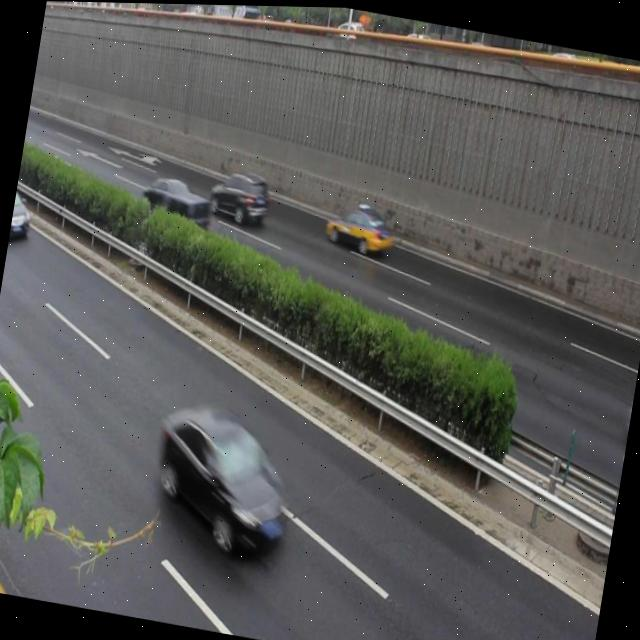car: (138, 386, 310, 568), (319, 192, 399, 266), (139, 165, 217, 234), (204, 163, 270, 229), (8, 187, 37, 249)
